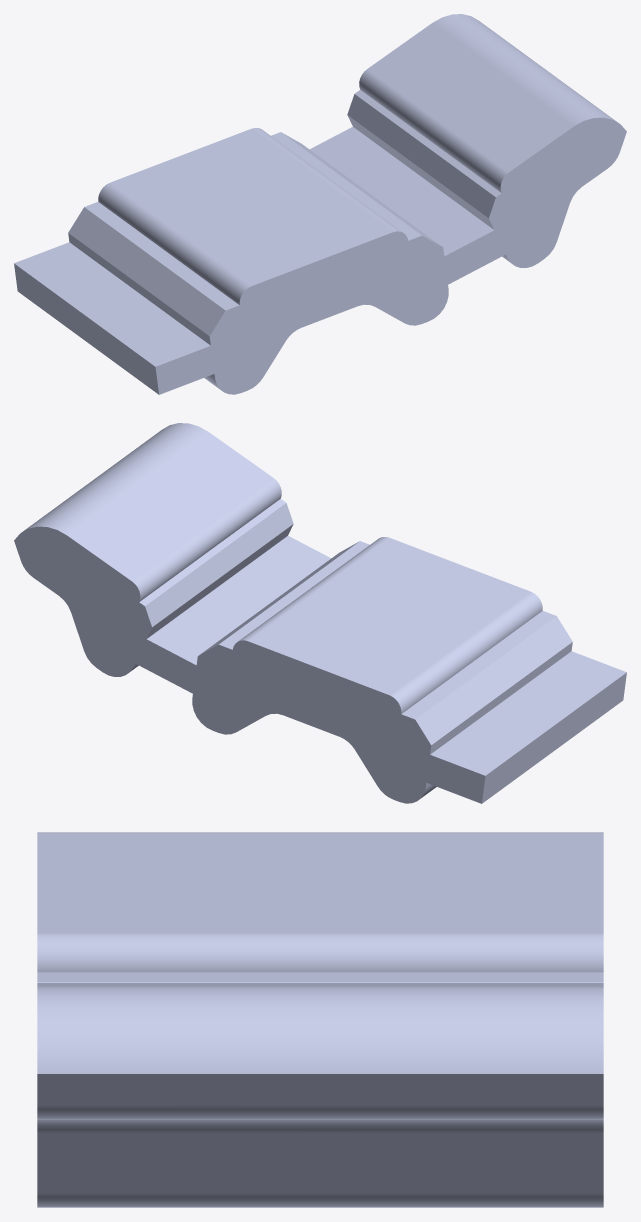
Rendered from finger_double_collision.dae.
3 renders of one model, top to bottom at view 1: azimuth 30°, elevation 25°; view 2: azimuth 150°, elevation 25°; view 3: azimuth 270°, elevation 25°, orthographic. The views are drawn at different scales.
Parts seen in each view (by area): view 1: Actor0; view 2: Actor0; view 3: Actor0.
Boxes of the visible parts, bbox=[...] form: Actor0: bbox=[14, 14, 626, 394]; Actor0: bbox=[14, 423, 626, 803]; Actor0: bbox=[37, 832, 603, 1207].
Bounding box in the file's own units: 0.1013 × 0.0388 × 0.0527.
